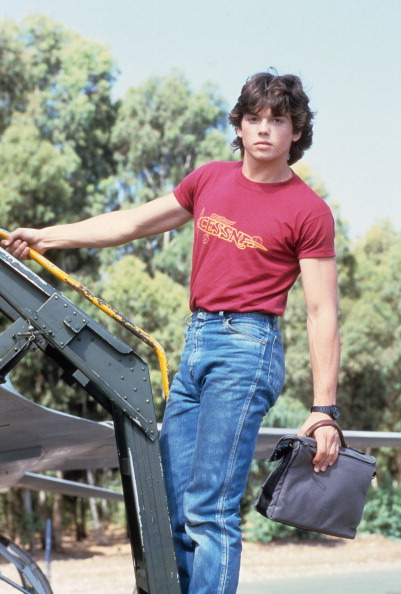em pe: (67, 67, 363, 593)
